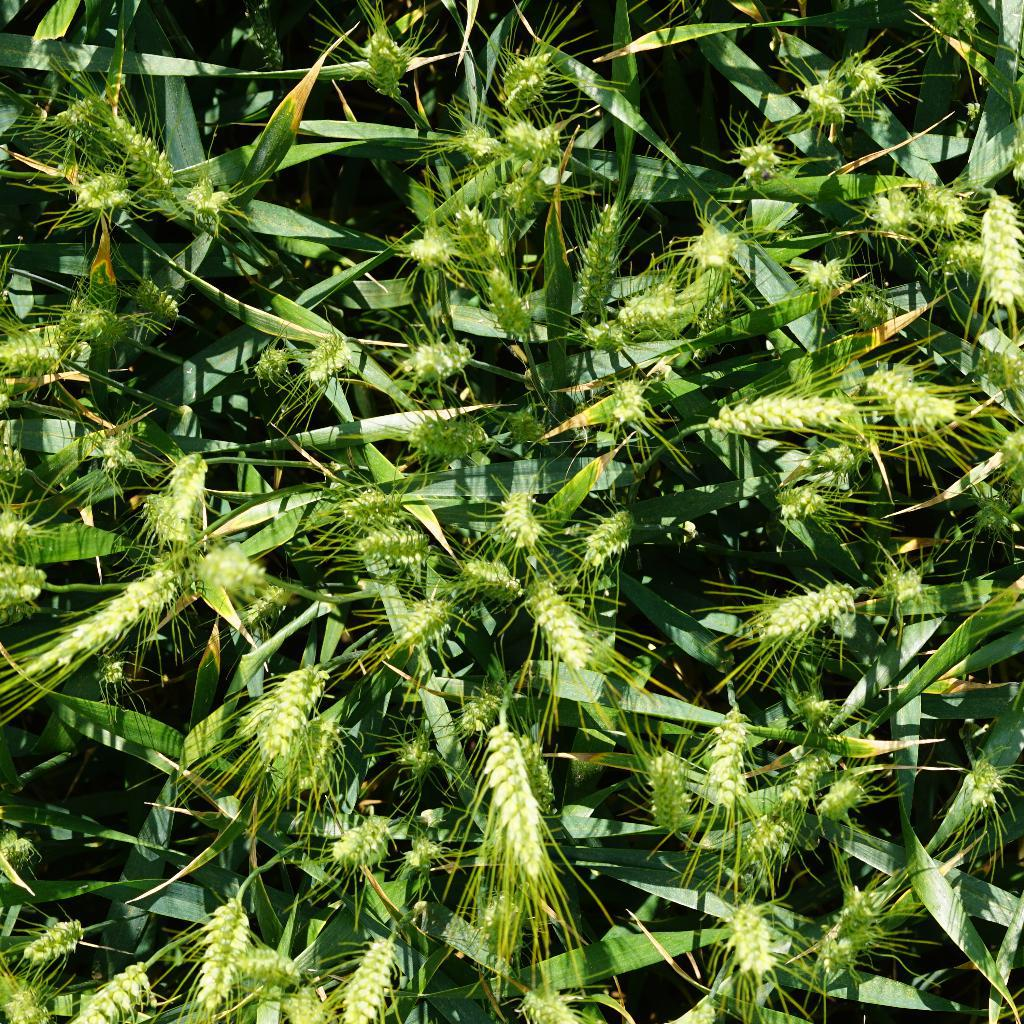0-0: (52, 557, 197, 657), (468, 713, 557, 874), (69, 99, 196, 200), (28, 949, 163, 1024), (253, 653, 321, 784), (960, 179, 1024, 314), (701, 381, 855, 436), (559, 194, 627, 318), (526, 571, 612, 669), (736, 579, 863, 645), (848, 359, 960, 432), (190, 873, 249, 1011), (331, 923, 410, 1024), (695, 698, 754, 829), (813, 882, 881, 983), (609, 260, 714, 322), (392, 408, 501, 466), (382, 580, 463, 658), (354, 18, 426, 105), (473, 30, 557, 103), (471, 266, 549, 344), (346, 516, 438, 578), (287, 706, 349, 797), (321, 804, 396, 878), (790, 427, 887, 483), (718, 892, 778, 980), (275, 331, 358, 393), (507, 732, 567, 817), (903, 176, 982, 239), (718, 799, 788, 870), (488, 477, 550, 557), (0, 317, 86, 374), (406, 333, 494, 387), (494, 974, 589, 1024), (571, 501, 639, 570), (159, 447, 215, 526), (447, 204, 519, 265), (646, 740, 691, 834), (727, 127, 795, 189), (691, 290, 744, 369), (198, 550, 281, 600), (479, 884, 527, 970), (236, 944, 314, 996), (860, 180, 929, 238), (85, 416, 142, 485), (70, 295, 141, 349), (40, 87, 117, 135), (793, 246, 858, 302), (447, 675, 503, 739), (458, 546, 523, 601), (165, 180, 240, 227), (503, 108, 576, 156), (784, 684, 858, 731), (680, 213, 735, 275), (594, 382, 656, 437), (19, 912, 94, 957), (788, 70, 848, 126), (978, 417, 1024, 490), (131, 268, 198, 317), (247, 6, 287, 87), (780, 744, 825, 815), (341, 486, 413, 530), (138, 490, 194, 546), (923, 235, 999, 276), (0, 561, 66, 608), (54, 286, 103, 348), (238, 582, 300, 629), (838, 285, 900, 332), (967, 343, 1024, 393), (395, 228, 453, 277), (959, 761, 1017, 810), (836, 43, 888, 96), (74, 160, 126, 212), (579, 308, 629, 362), (768, 483, 836, 522), (492, 171, 545, 221), (385, 728, 440, 776), (279, 972, 329, 1024), (822, 773, 867, 830), (917, 0, 978, 42), (452, 118, 504, 167), (397, 828, 445, 879), (632, 997, 721, 1024), (0, 820, 49, 867), (966, 490, 1016, 536), (500, 405, 550, 449), (0, 986, 53, 1024), (249, 343, 292, 389), (890, 571, 931, 608), (997, 130, 1024, 186), (91, 651, 126, 685), (959, 95, 987, 126), (1011, 570, 1024, 627)
